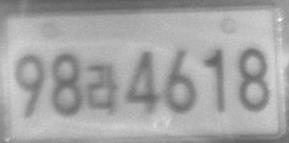1: (201, 48, 233, 113)
4: (125, 50, 161, 112)
6: (162, 48, 197, 114)
8: (237, 47, 270, 112), (49, 52, 81, 116)
9: (14, 54, 45, 118)
라: (86, 63, 118, 114)
